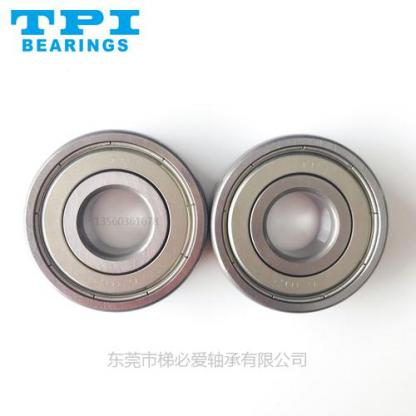FOD: (23, 127, 209, 317), (209, 132, 390, 318)
